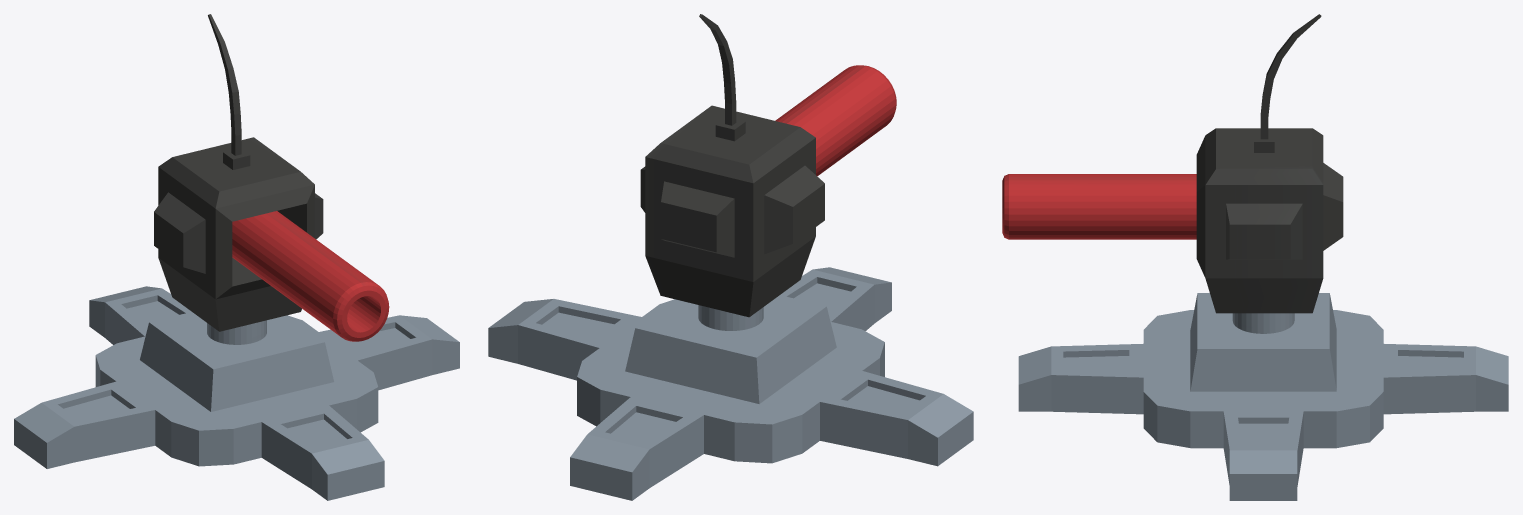
Rendered from Turret.fbx.
3 renders of one model, left to right at view 1: azimuth 30°, elevation 25°; view 2: azimuth 150°, elevation 25°; view 3: azimuth 270°, elevation 25°, orthographic. The views are drawn at different scales.
Parts seen in each view (by area): view 1: Cube.002, Cube.003; view 2: Cube.002, Cube.003; view 3: Cube.002, Cube.003.
Part boxes in pixels (x1,y1,x2,y2): Cube.002: [14, 286, 459, 500]; Cube.003: [154, 14, 389, 341]; Cube.002: [488, 267, 973, 500]; Cube.003: [640, 14, 896, 317]; Cube.002: [1018, 293, 1508, 500]; Cube.003: [1002, 14, 1343, 313].
Size of the model in its own units: 381 by 394 by 329.
